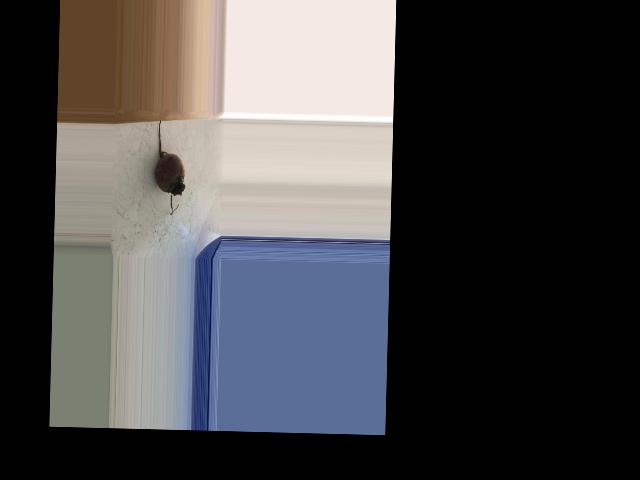beet: (154, 117, 186, 214)
